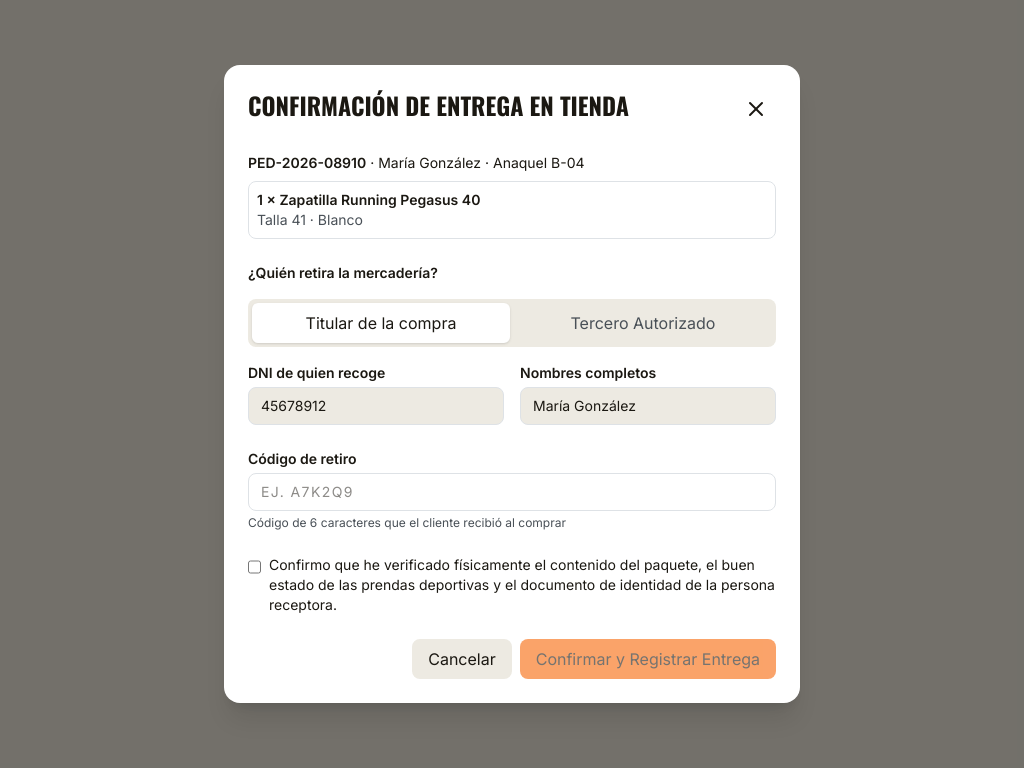
Test: DeliveryModal (RF-19) › retiro por tercero limpia los campos y exige DNI de 8 dígitos
Click the radio button labelled "Tercero Autorizado".
click(643, 323)  # box 514,303 -> 772,343
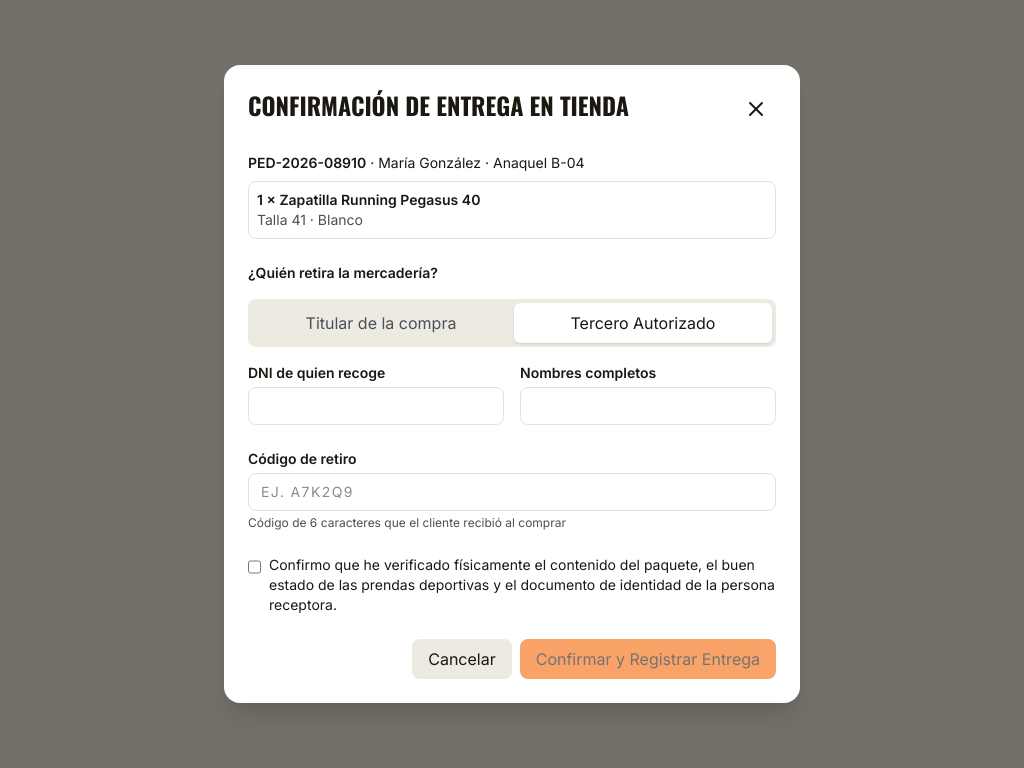
expect the field labelled "DNI de quien recoge" is empty: met
Type "1234" into the field labelled "DNI de quien recoge".
click(376, 406); type("1234")  # box 248,387 -> 504,425
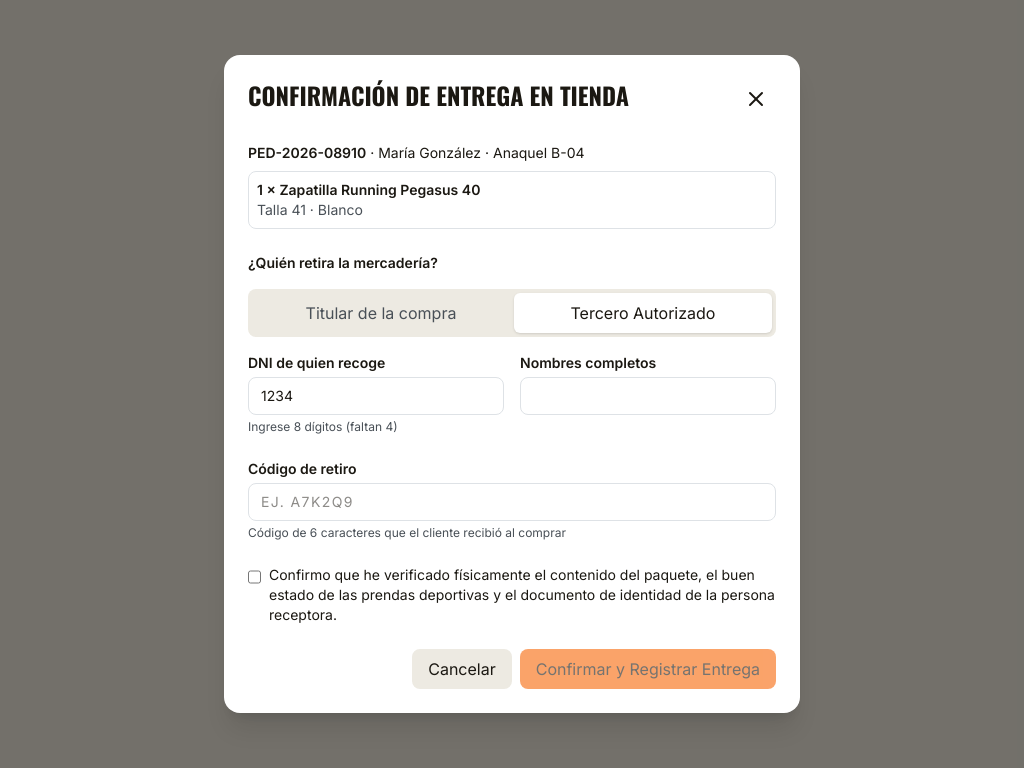
Type "Pedro Ramírez" into the field labelled "Nombres completos".
click(648, 396); type("Pedro Ramírez")  # box 520,377 -> 776,415
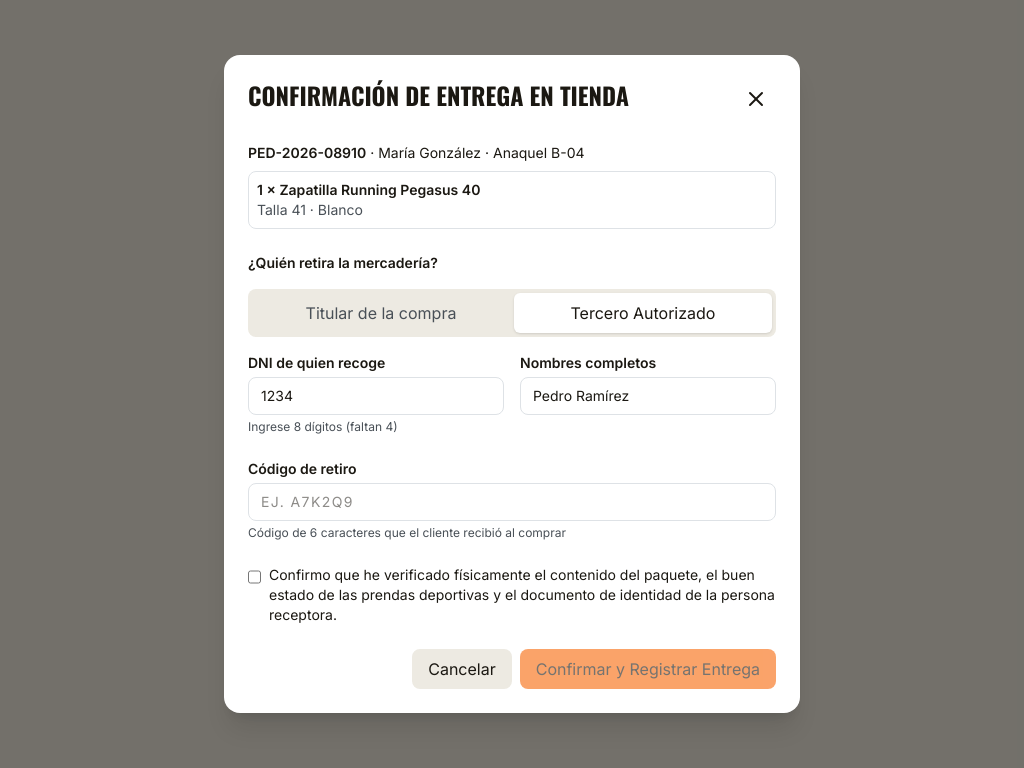
Type "A7K2Q9" into the field labelled "Código de retiro".
click(512, 502); type("A7K2Q9")  # box 248,483 -> 776,521
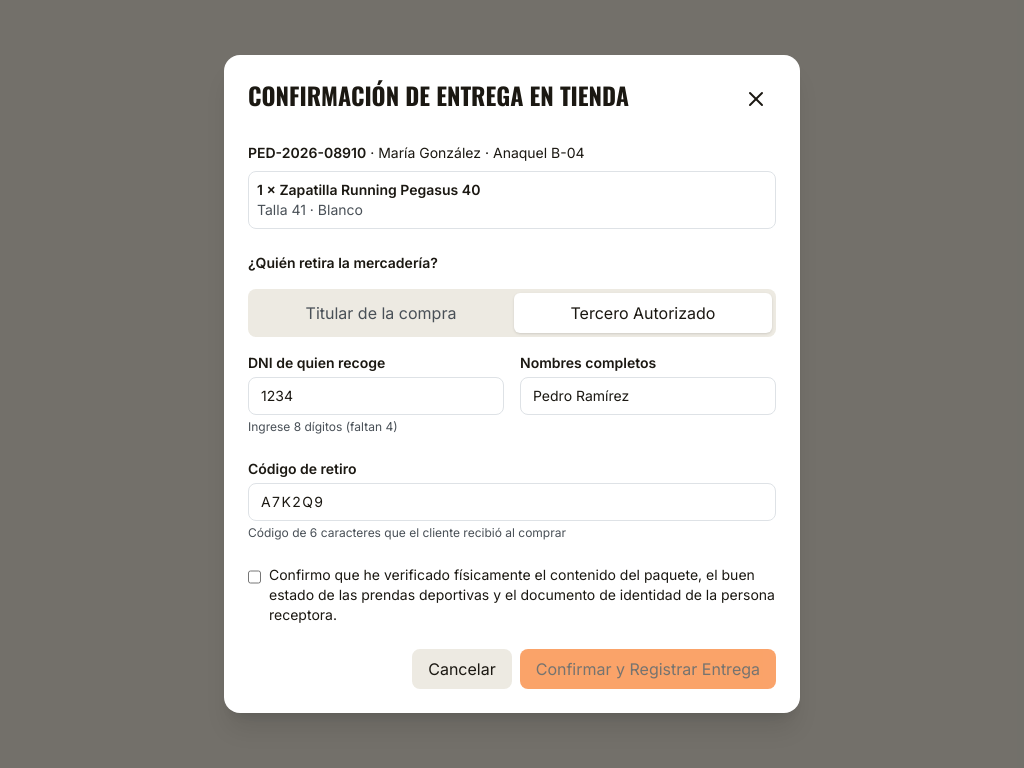
Click the checkbox labelled "verificado físicamente".
click(254, 577)  # box 248,569 -> 261,585
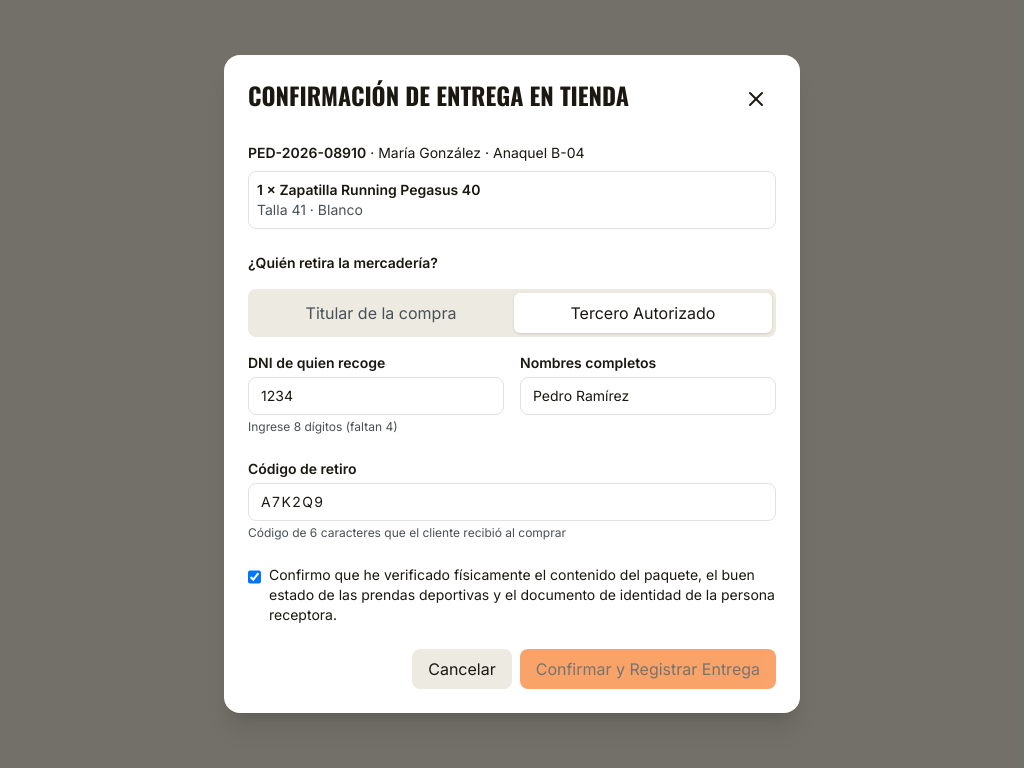
expect the button "Confirmar y Registrar Entrega" is disabled: met, box 520,649 -> 776,689
Replace the text in the field labelled "DNI de quien recoge Ingrese 8 dígitos (faltan 4)" with "87654321" at (376, 396), box 248,377 -> 504,415
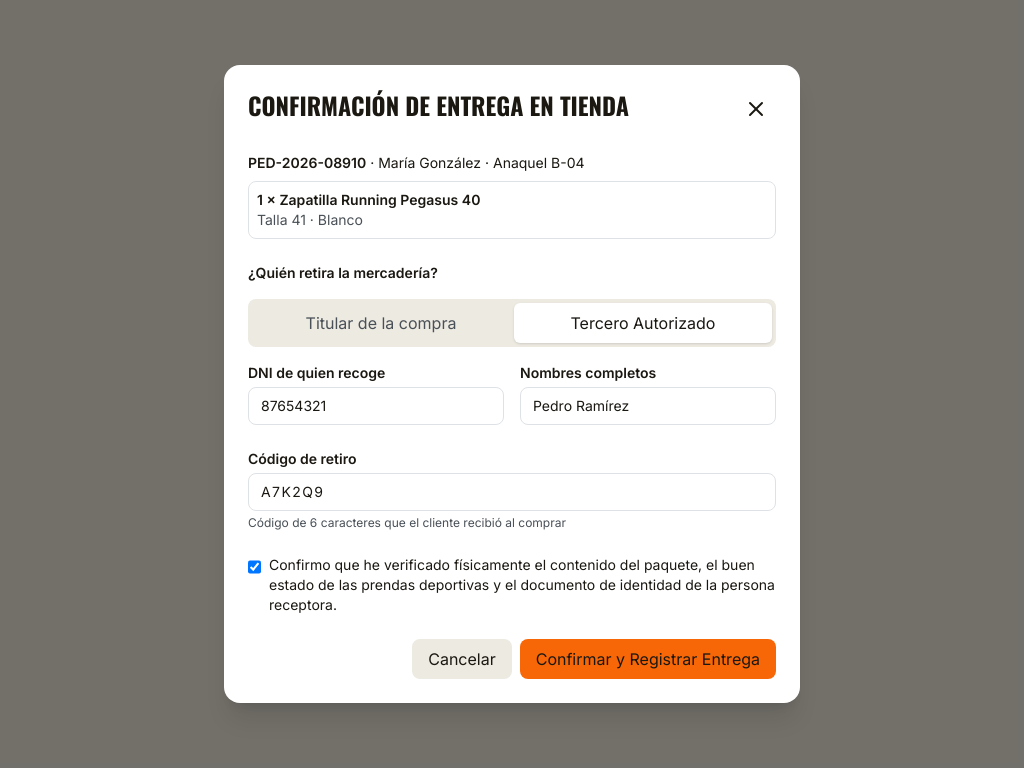
expect the button "Confirmar y Registrar Entrega" is enabled: met, box 520,639 -> 776,679
